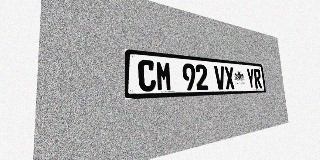2: (195, 64, 208, 90)
9: (182, 63, 196, 90)
C: (138, 59, 156, 92)
M: (156, 61, 172, 91)
R: (253, 69, 262, 88)
V: (214, 65, 226, 90)
X: (224, 66, 235, 89)
Y: (246, 68, 255, 89)
